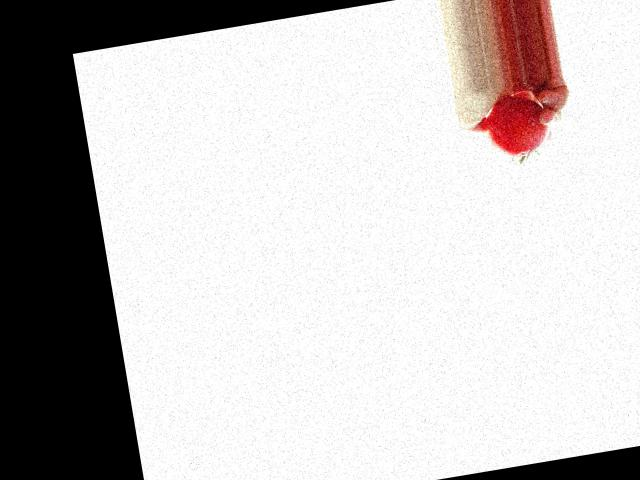tomato: (482, 91, 554, 161)
